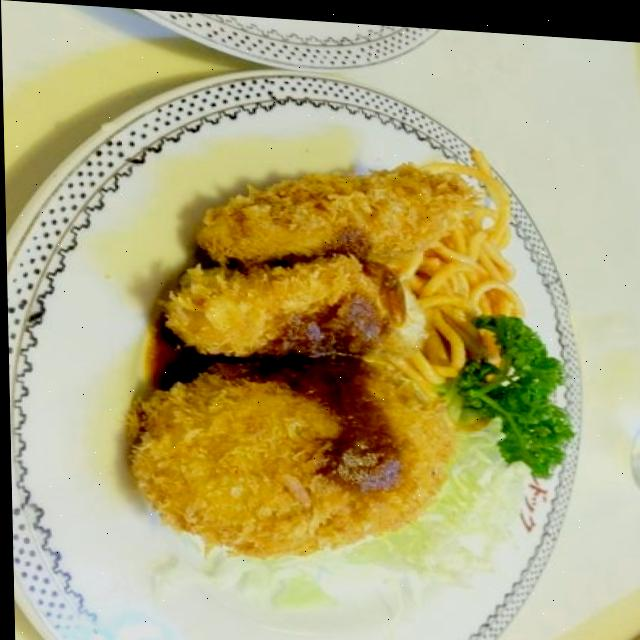鸡肉料理 含炸鸡: (112, 132, 479, 589)
